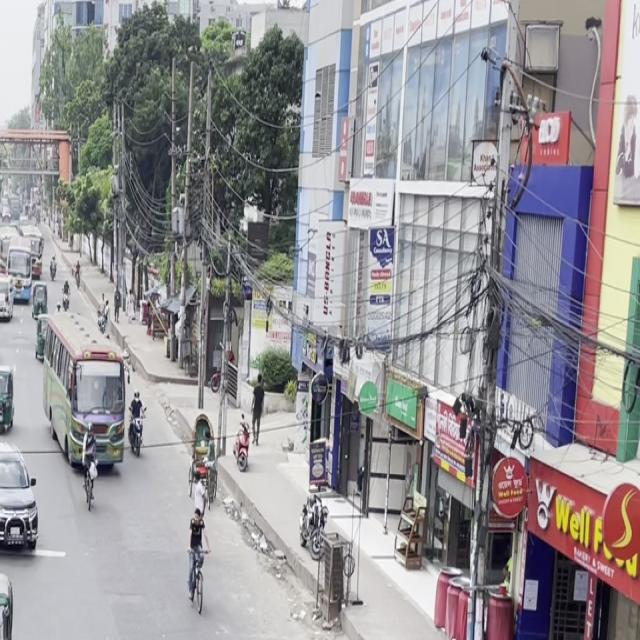bicycle: (178, 499, 213, 619), (78, 431, 100, 515)
car: (0, 435, 45, 566)
motorbike: (124, 387, 148, 461)
rickshaw: (0, 567, 23, 640), (0, 360, 19, 438)
